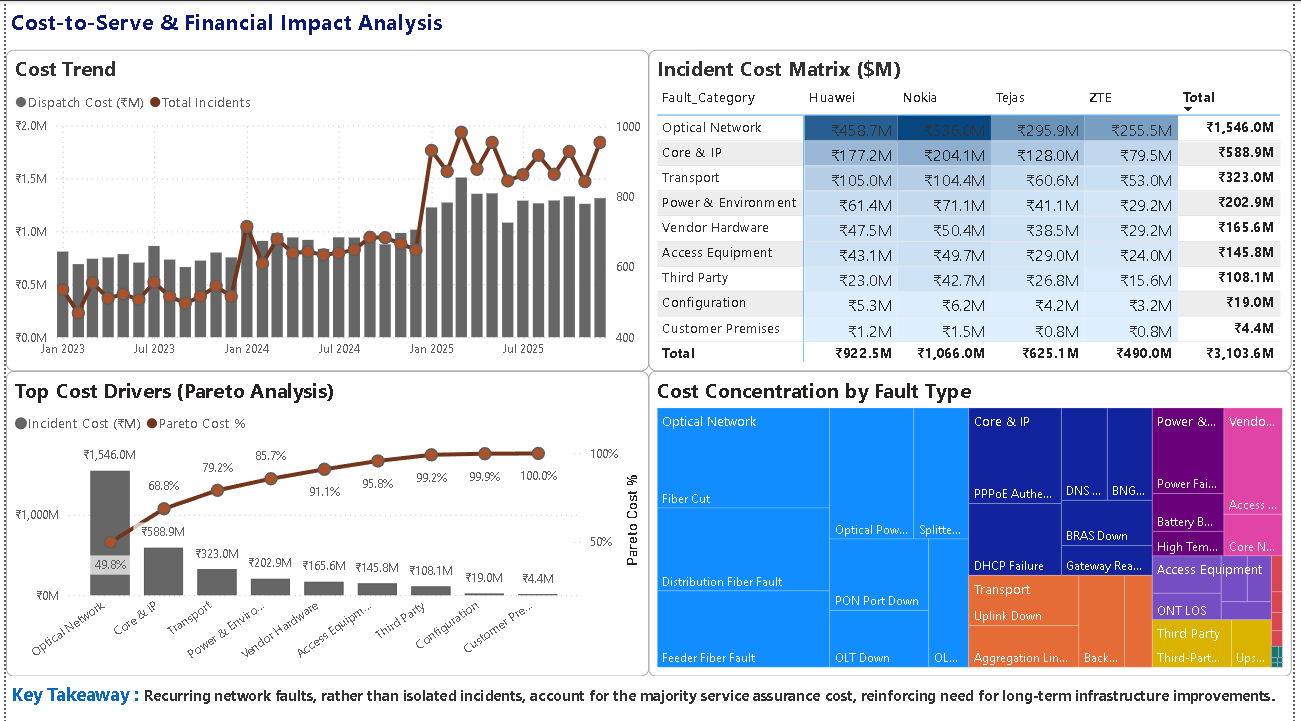

Layout of this report page (visuals, bound fields, positions):
{"tool":"powerbi","page":{"name":"Cost-to-Serve & Financial Impact Analysis","canvas":[1280,720],"ordinal":3},"visuals":[{"type":"lineClusteredColumnComboChart","title":"Cost Trend","fields":{"Category":["Dim_Date.Year_Month"],"Y2":["Measure.Total Incidents"],"Y":["Measure.Dispatch Cost ($M)"]},"box":[0,48,640,320],"z":0},{"type":"pivotTable","title":"Incident Cost Matrix ($M)","fields":{"Rows":["Dim_Fault.Fault_Category"],"Columns":["Dim_VendorTechnology.Vendor"],"Values":["Measure.Incident Cost ($M)"]},"box":[640,48,640,320],"z":1000},{"type":"treemap","title":"Cost Concentration by Fault Type","fields":{"Details":["Dim_Fault.Fault_Name"],"Group":["Dim_Fault.Fault_Category"],"Values":["Measure.Incident Cost ($M)"]},"box":[640,368,640,304],"z":2000},{"type":"lineClusteredColumnComboChart","title":"Top Cost Drivers (Pareto Analysis)","fields":{"Category":["Dim_Fault.Fault_Category"],"Y":["Measure.Incident Cost ($M)"],"Y2":["Measure.Pareto Cost %"]},"box":[0,368,640,304],"z":3000},{"type":"textbox","box":[0,0,688,48],"z":4000},{"type":"textbox","box":[0,672,1280,48],"z":5000}]}

Visuals, with their boxes in screenshot pixels (x1, y1, x2, y2), scaled from the page's 1280x720 canvas onto the 1301x721 screenshot:
"Cost Trend" lineClusteredColumnComboChart: region(0, 48, 650, 369)
"Incident Cost Matrix ($M)" pivotTable: region(650, 48, 1300, 369)
"Cost Concentration by Fault Type" treemap: region(650, 369, 1300, 673)
"Top Cost Drivers (Pareto Analysis)" lineClusteredColumnComboChart: region(0, 369, 650, 673)
textbox: region(0, 0, 699, 48)
textbox: region(0, 673, 1300, 720)
